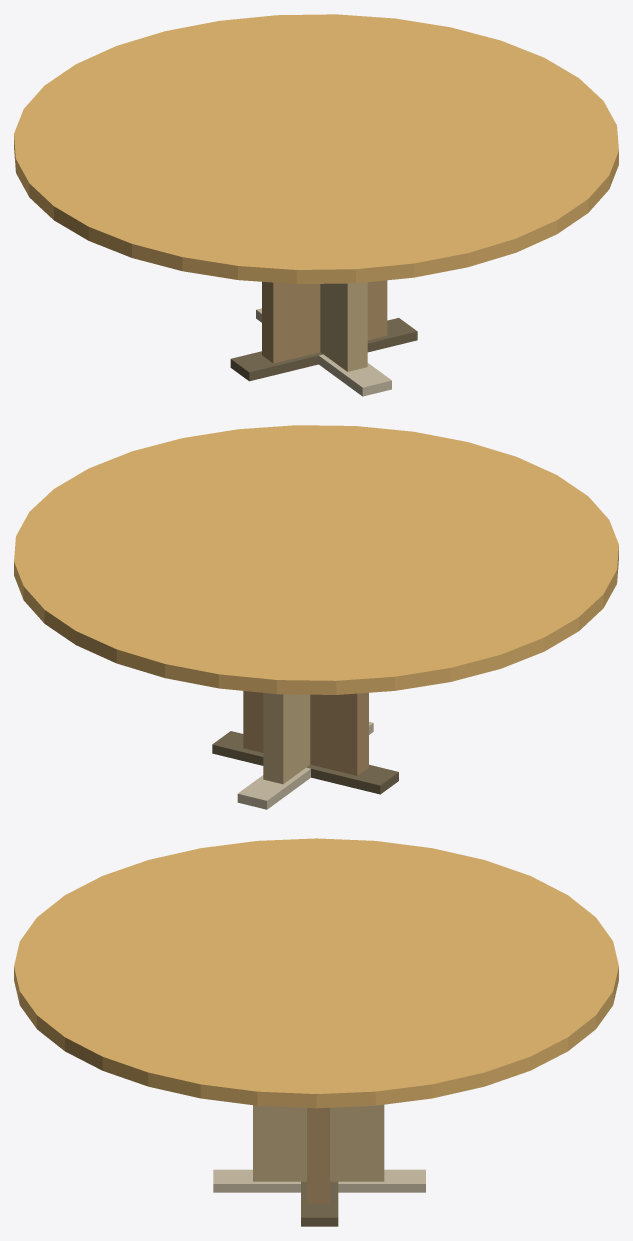
The model's file is mesacircular.dae.
3 views of the same model, one above another, from view 1: azimuth 30°, elevation 25°; view 2: azimuth 150°, elevation 25°; view 3: azimuth 270°, elevation 25° (orthographic).
Visible parts, largest first — view 1: Cylinder; view 2: Cylinder; view 3: Cylinder.
Boxes of the visible parts, x1,y1,x2,y2 form: Cylinder: (14, 14, 618, 396); Cylinder: (14, 425, 618, 809); Cylinder: (14, 838, 618, 1226).
Bounding box in the file's own units: 1.23 × 1.23 × 0.4802.
